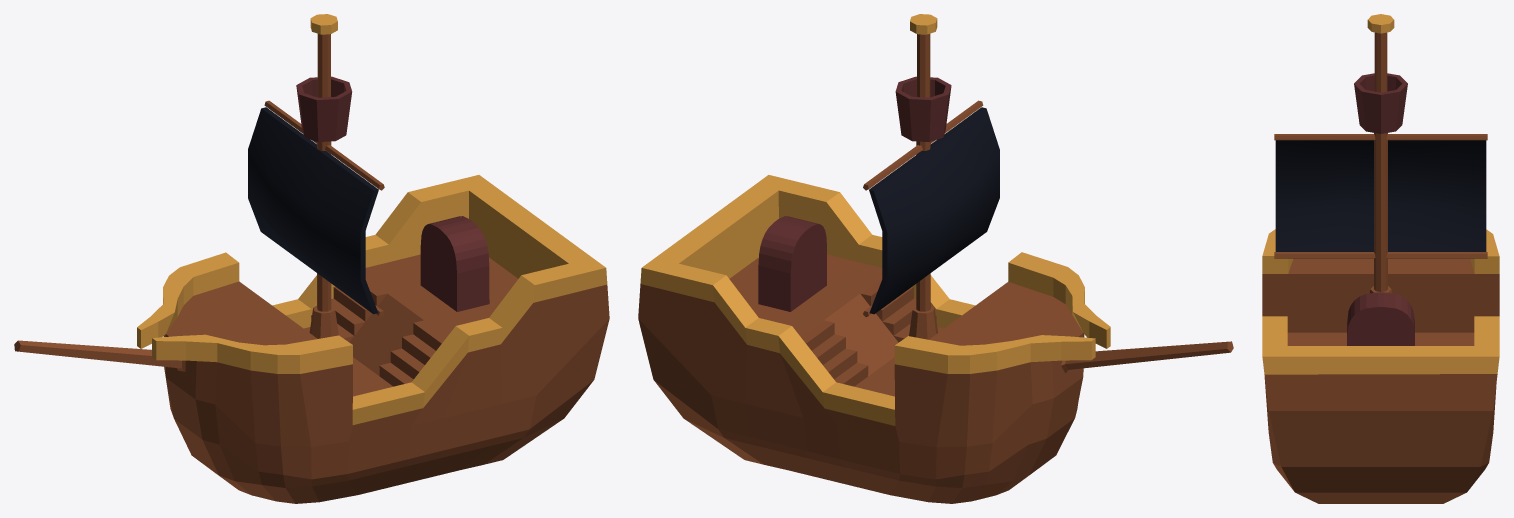
Rendered from ship2.glb.
3 views of the same model, side by side, from view 1: azimuth 30°, elevation 25°; view 2: azimuth 150°, elevation 25°; view 3: azimuth 270°, elevation 25° (orthographic). The views are drawn at different scales.
Parts seen in each view (by area): view 1: жоски кораб; view 2: жоски кораб; view 3: жоски кораб.
Part boxes in pixels (box(x1,y1,x2,y2)): жоски кораб: box(14, 14, 609, 503); жоски кораб: box(638, 14, 1233, 503); жоски кораб: box(1262, 14, 1499, 503).
Bounding box in the file's own units: 4.85 × 3.81 × 2.
Materials: 1 (1 with a texture image).
